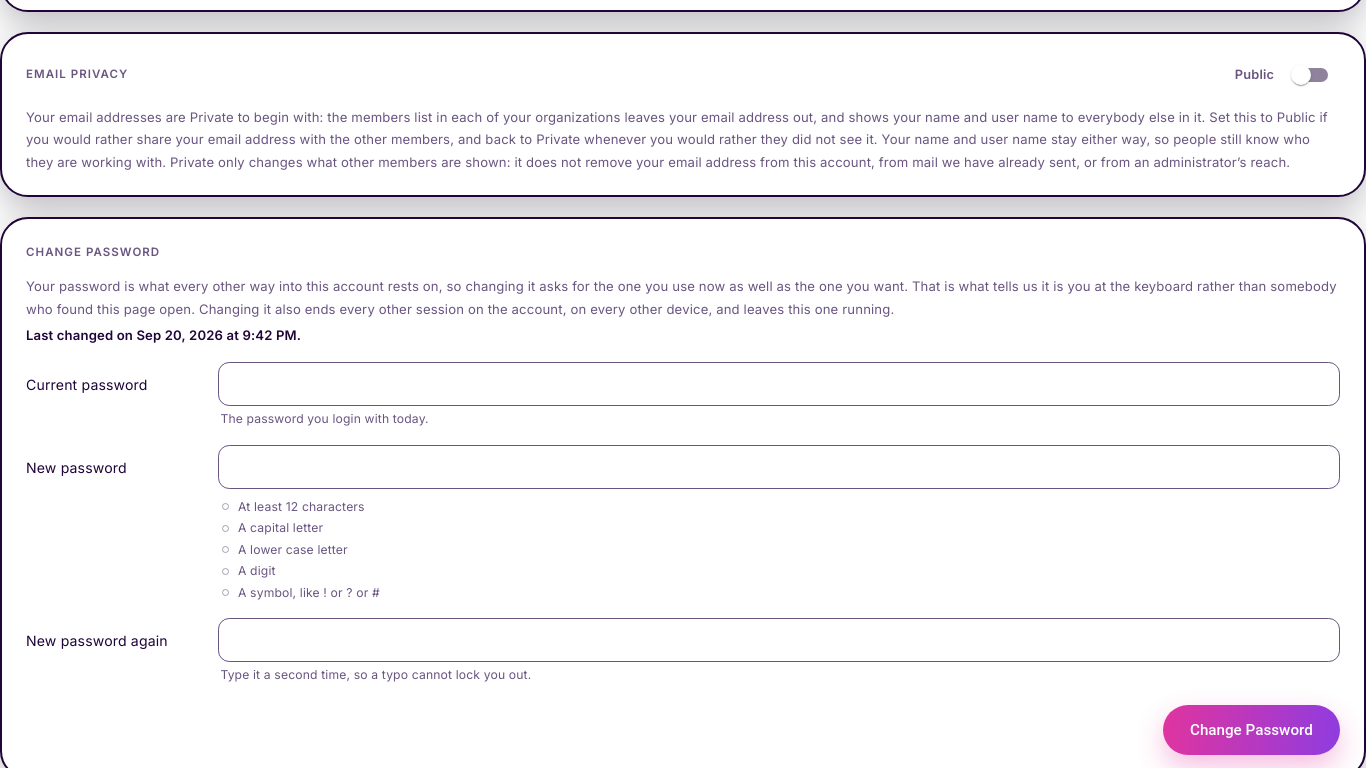
Scenario: the change-password card › says there were none when there were none
(page scrolled)
Type "letmein" into the password field labelled "Current password" at (779, 384), box top-left (218, 362), bottom-right (1340, 406)
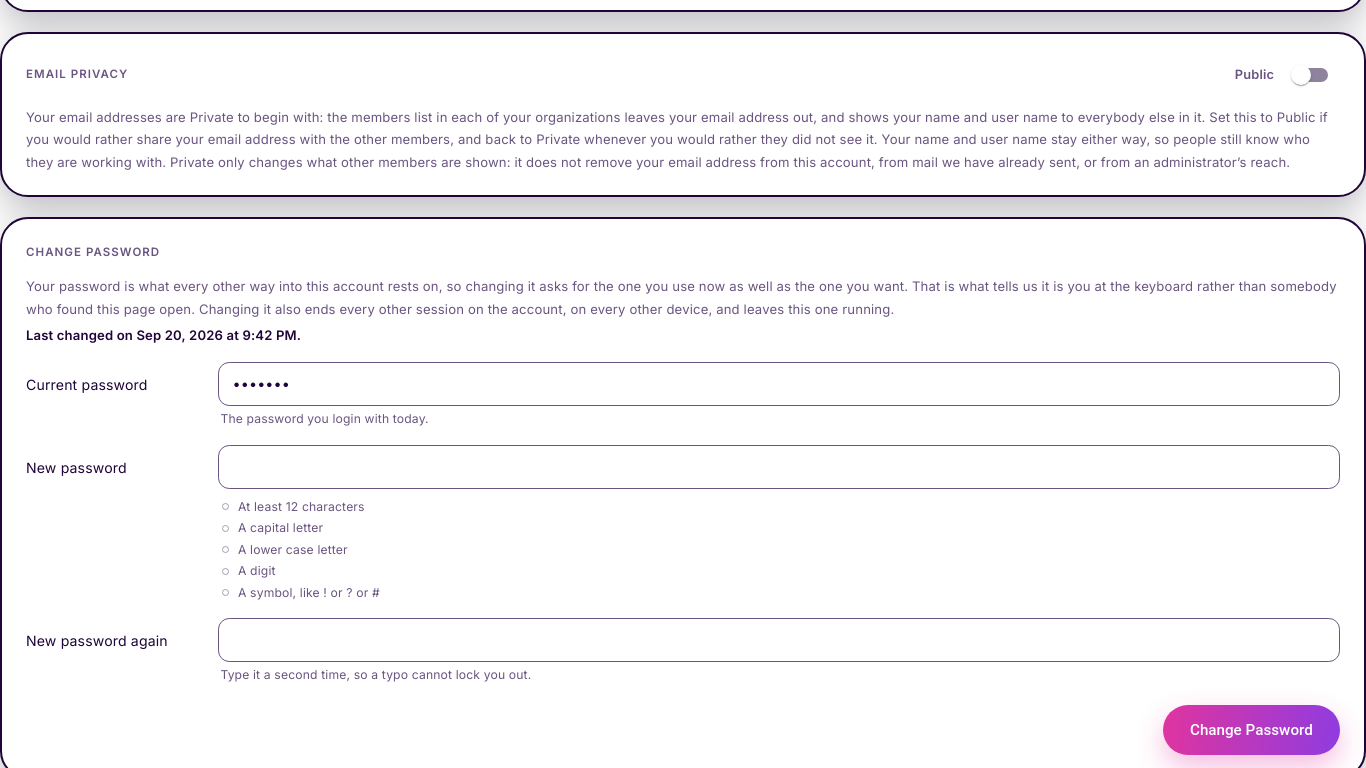
Type "Trombone-42-Fig" into the password field labelled "New password" at (779, 467), box top-left (218, 445), bottom-right (1340, 489)
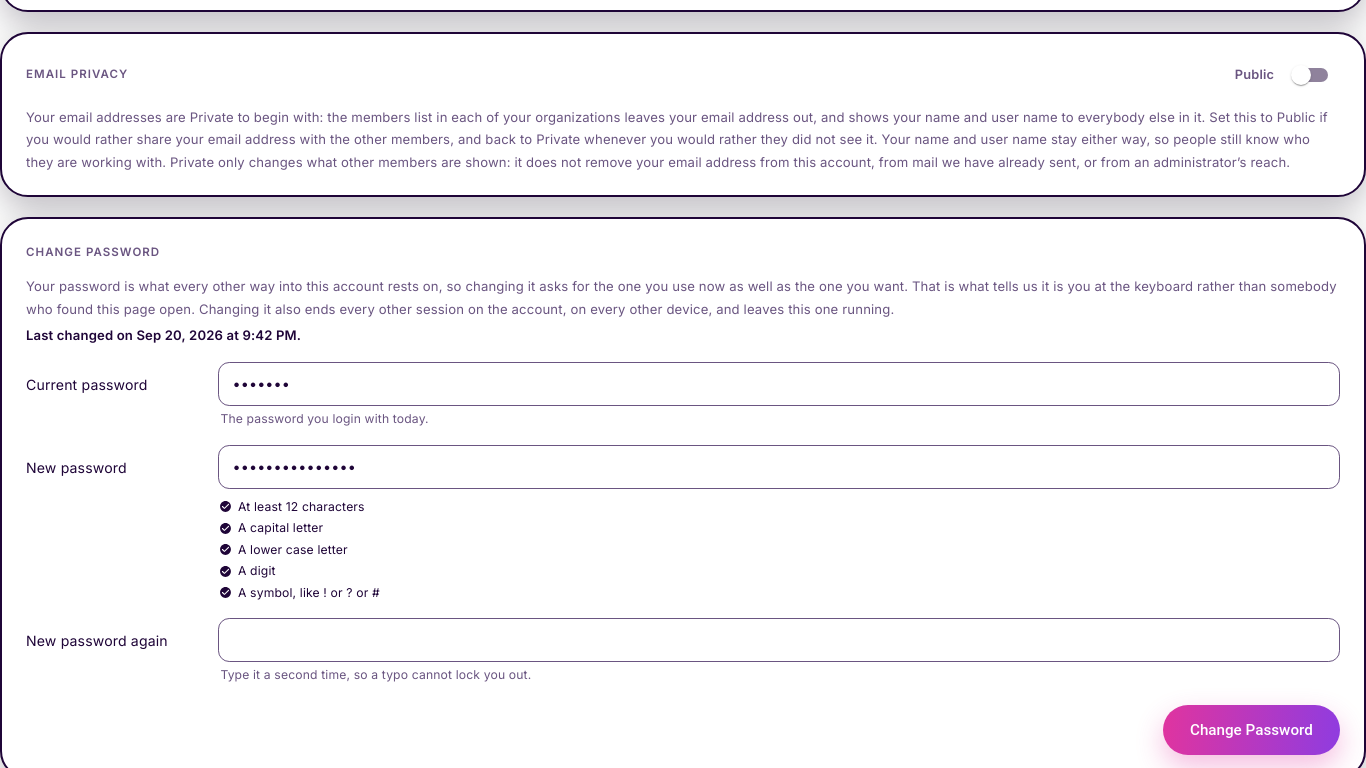
Type "Trombone-42-Fig" into the password field labelled "New password again" at (779, 640), box top-left (218, 618), bottom-right (1340, 662)
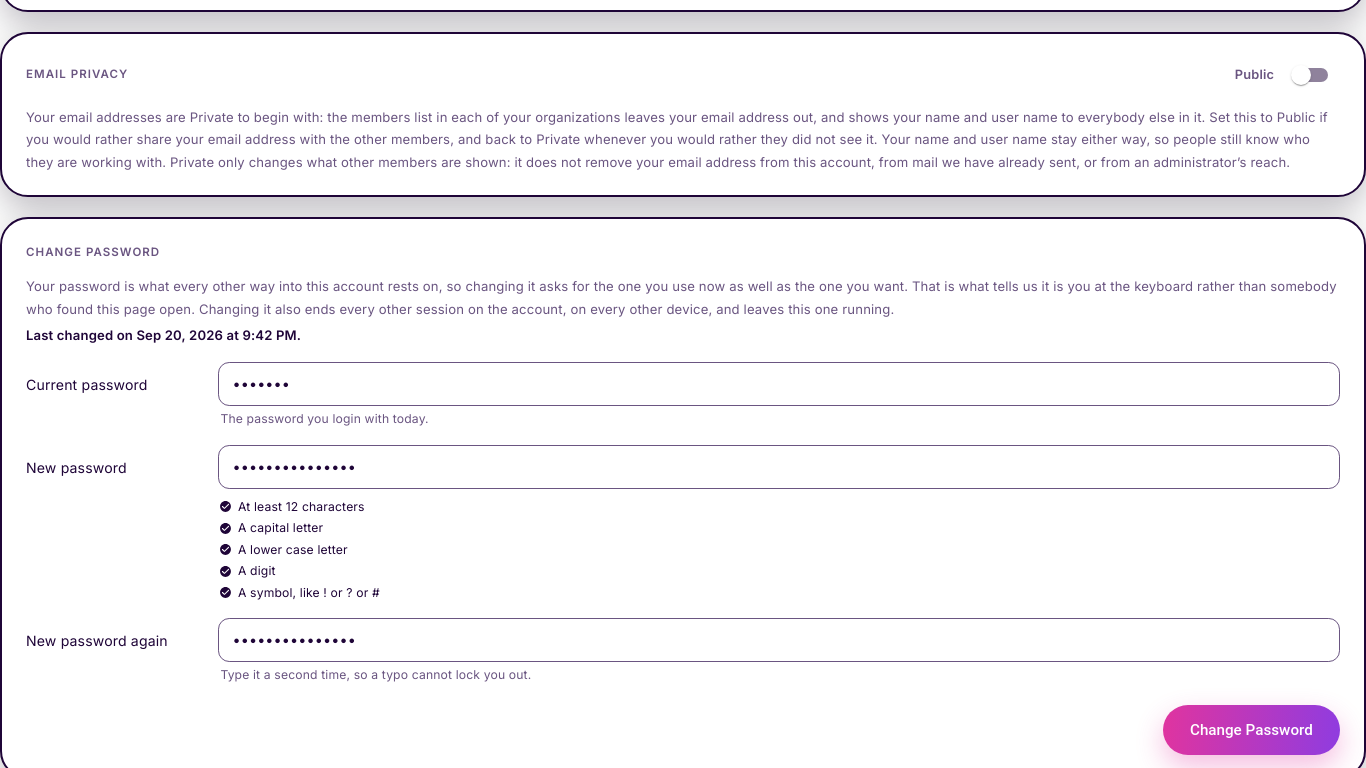
Click the button "Change Password" at (1251, 730), box top-left (1163, 705), bottom-right (1340, 755)
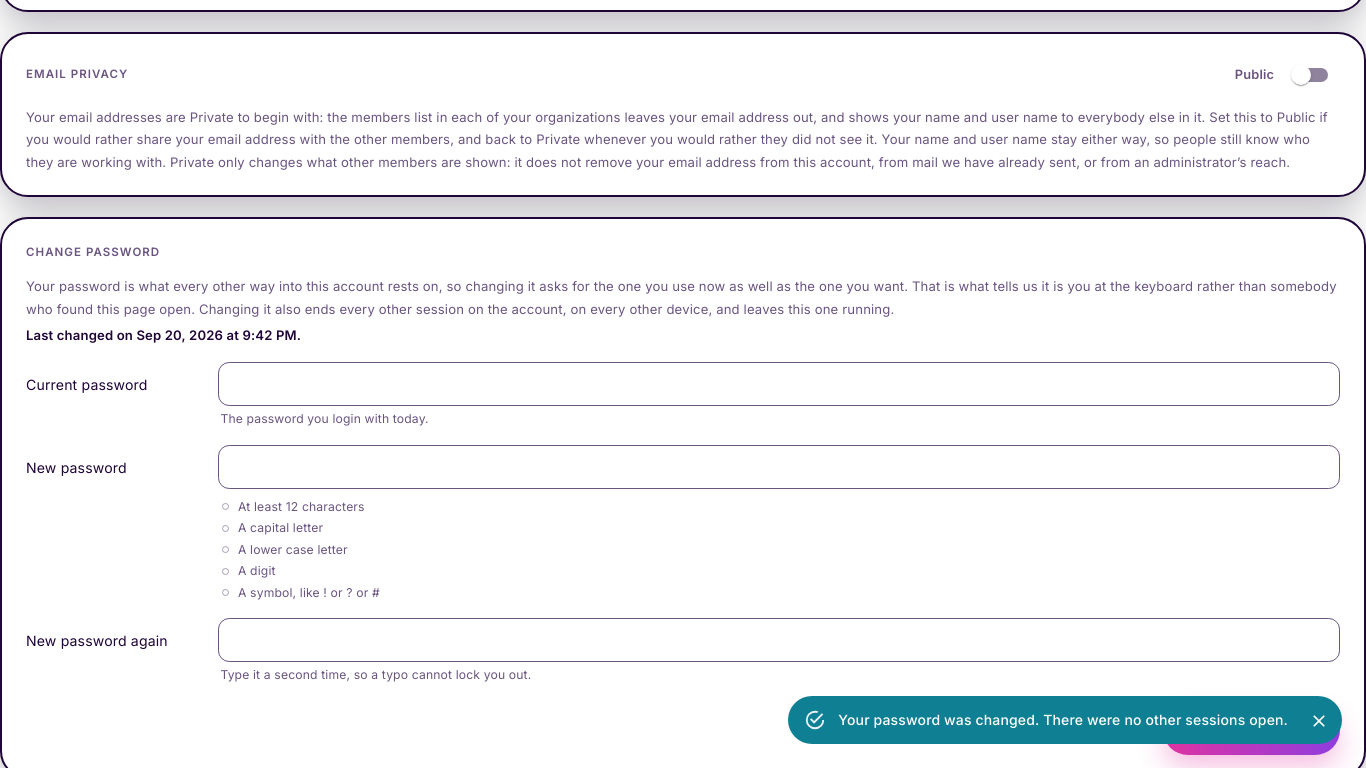
Expected: the text "Your password was changed. There were no other sessions open." is shown, top-left (838, 711), bottom-right (1288, 728)
